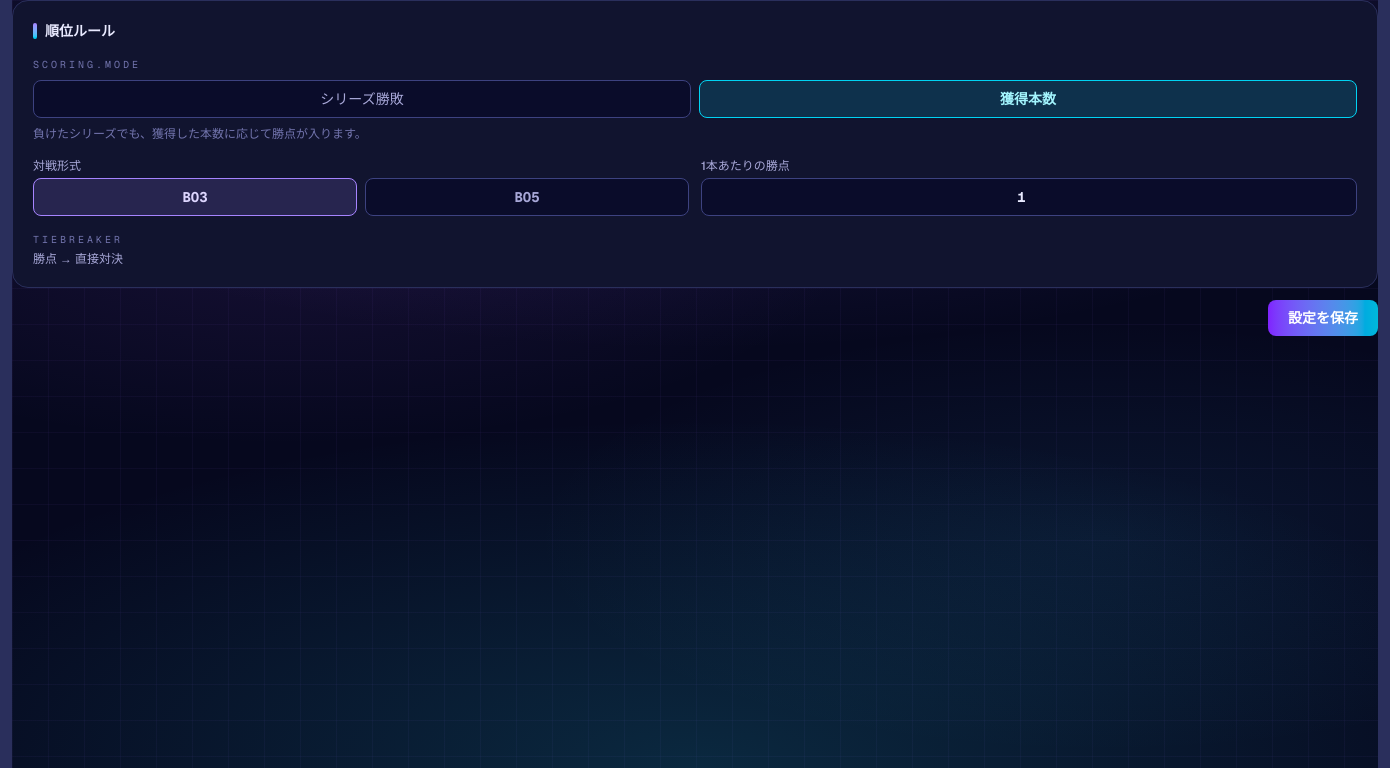
Test: LeagueSettingsEditor › saves the edited rule and refreshes the server-rendered league
This screenshot has width=1390, height=768.
Replace the text in the number field labelled "1本あたりの勝点" with "2": (1029, 197) [701,178,1357,216]
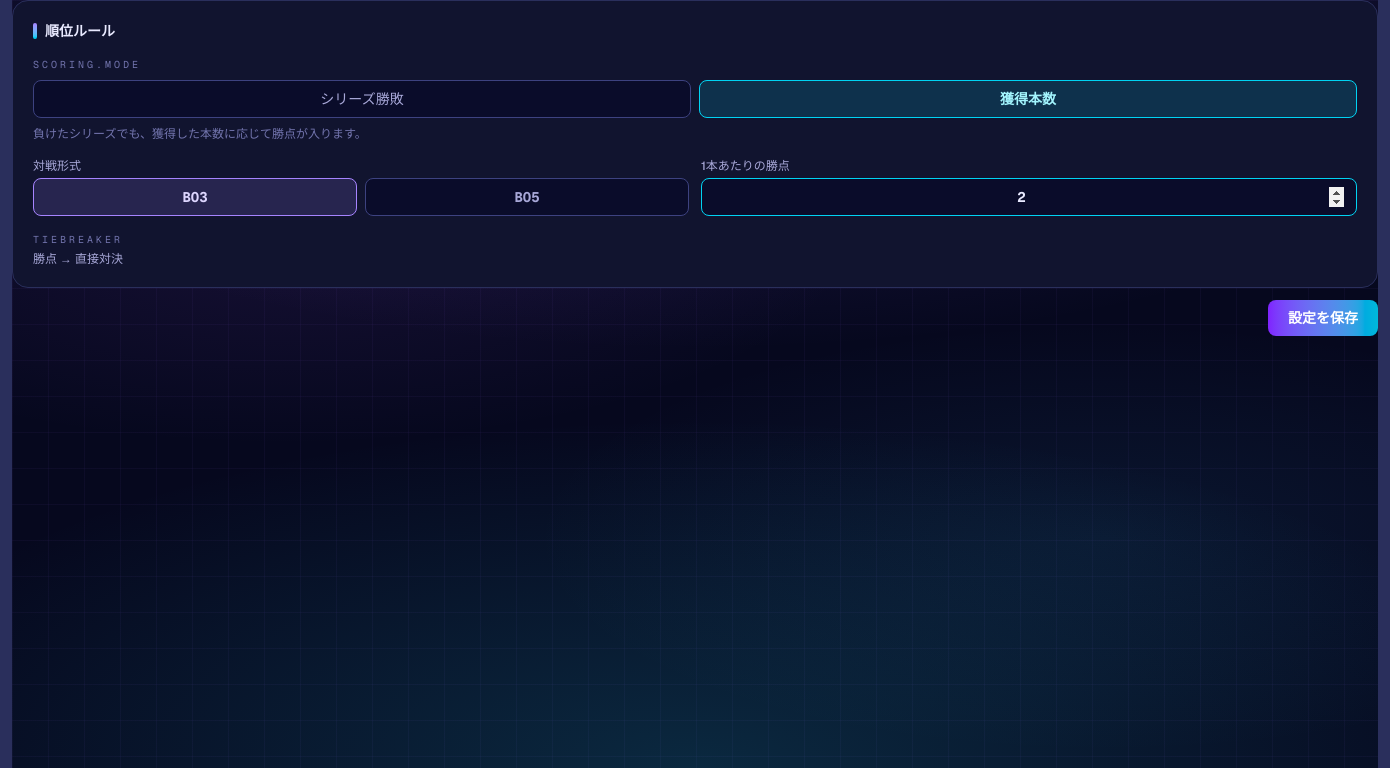
Click the button "BO5": (527, 197) [365,178,689,216]
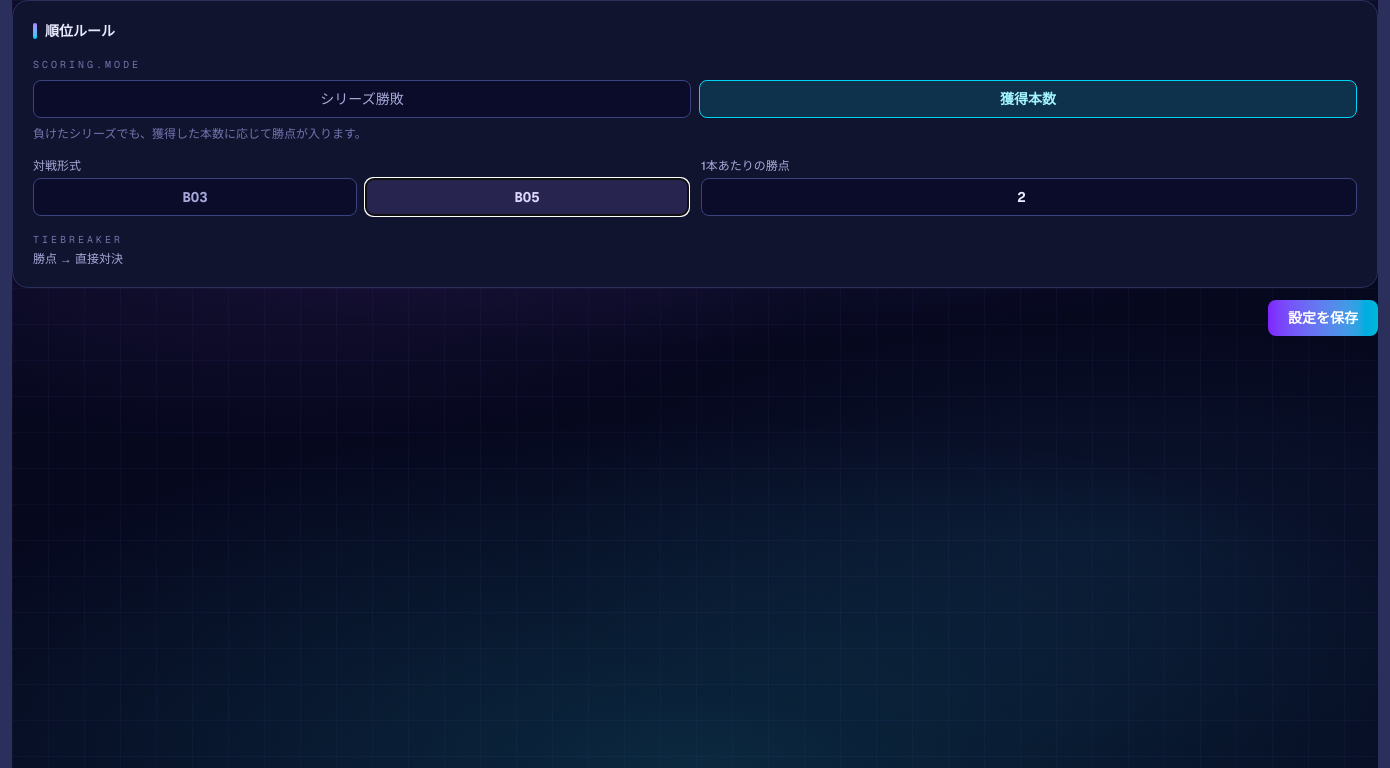
Click the button "設定を保存": (1323, 318) [1268,300,1378,336]
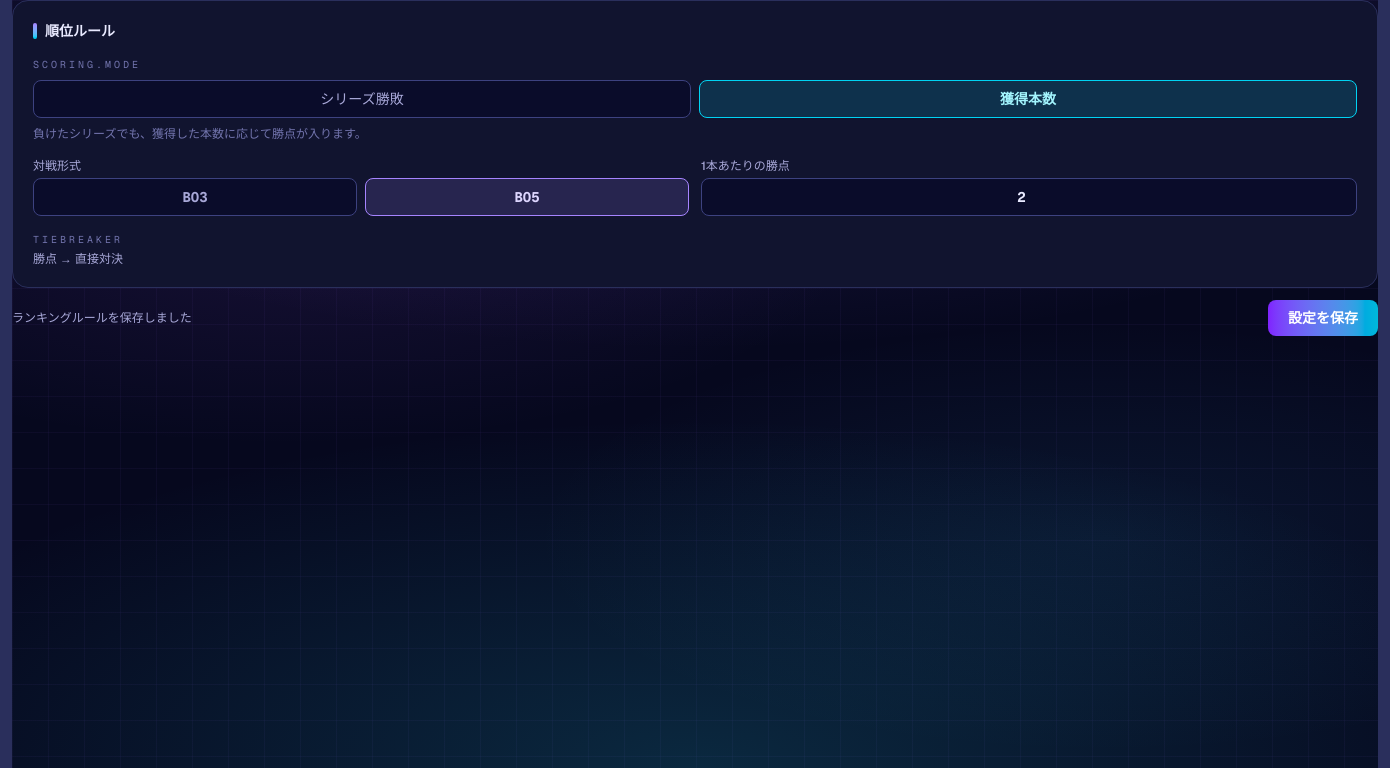
Check: the text "ランキングルールを保存しました" is shown, box [12,310,192,326]
